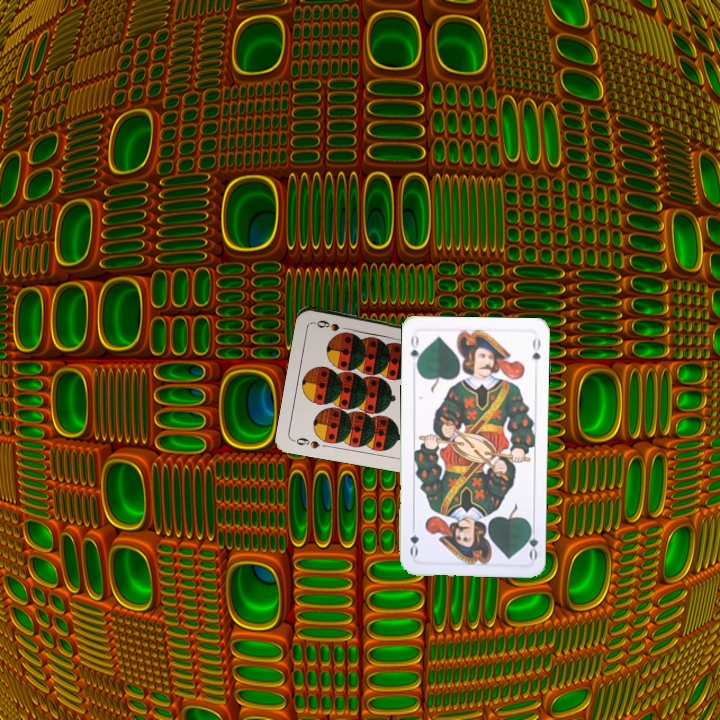GO: (522, 521, 540, 562), (406, 331, 424, 371)
S9: (289, 433, 322, 451)
